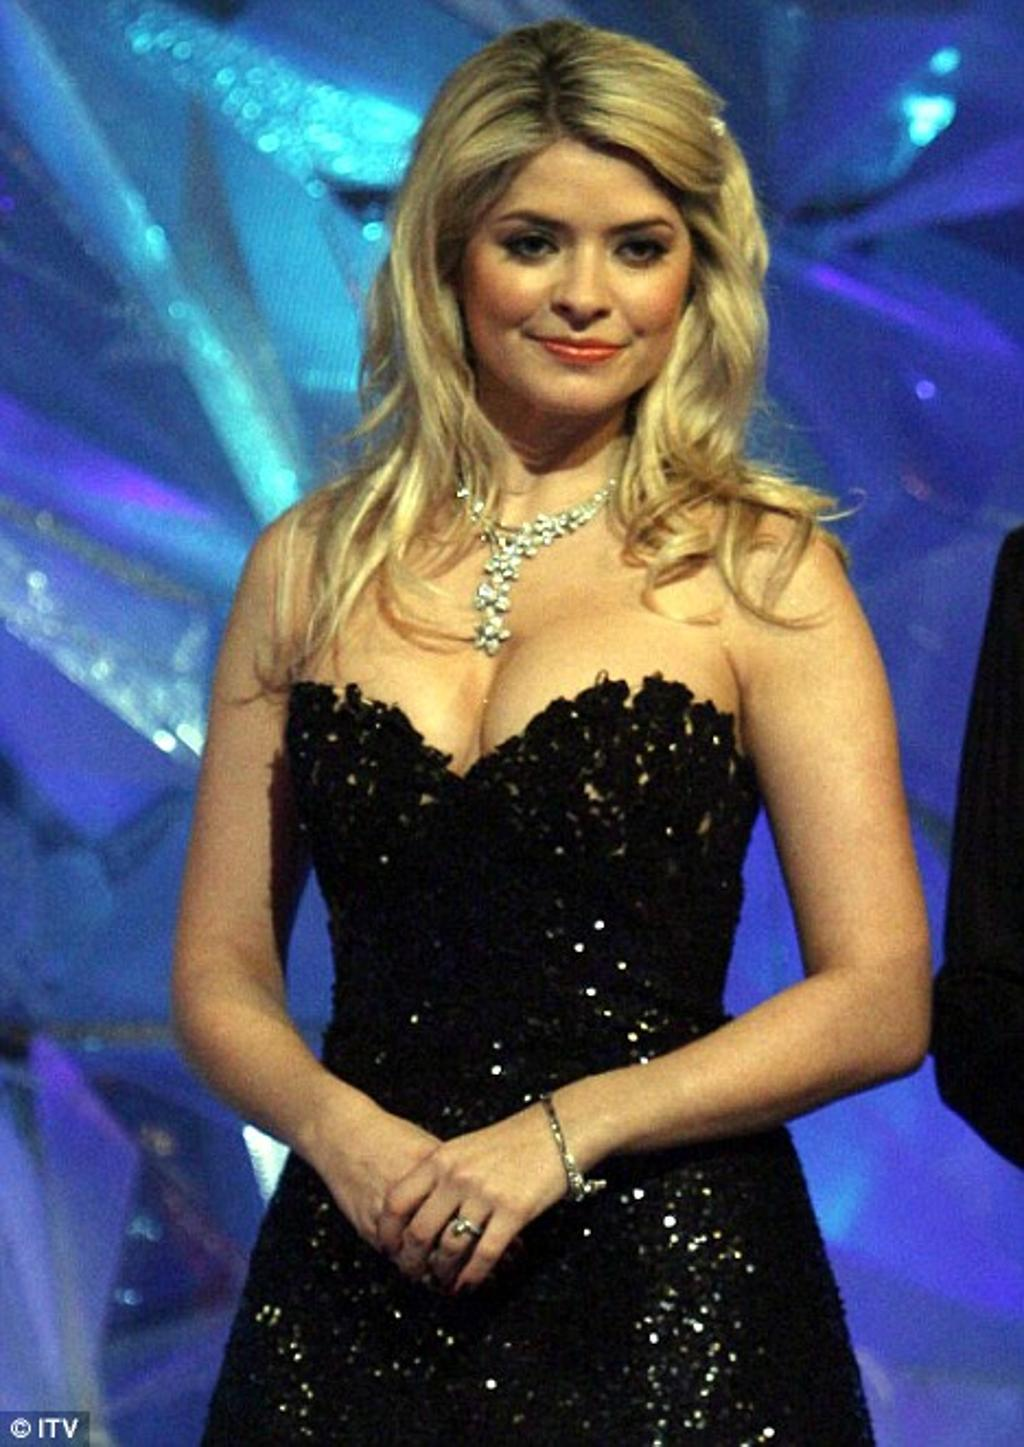face: (466, 136, 680, 412)
